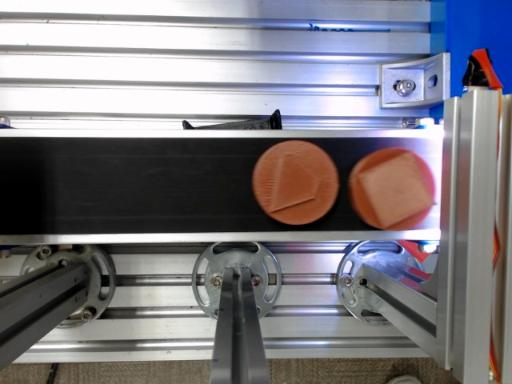Brown_Waper: (253, 140, 339, 225), (349, 148, 434, 230)
